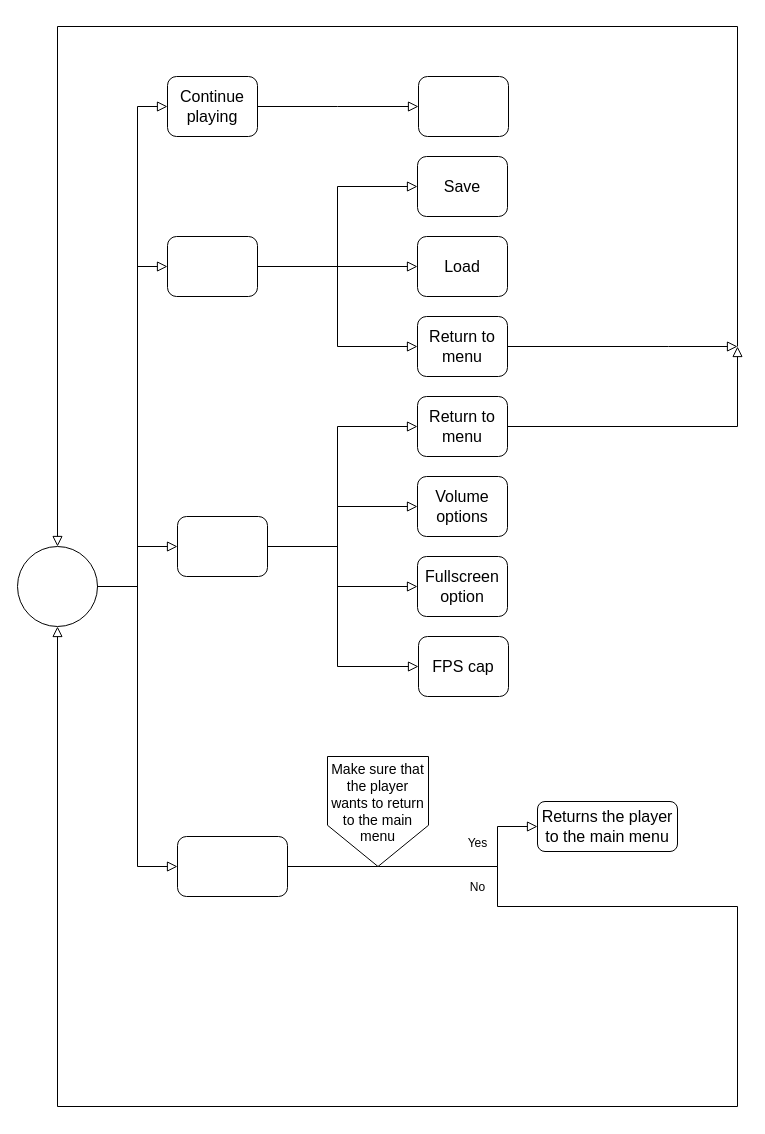
Image size: 765x1134. Some labels were removed from this diagram. The shapes that lost their labels are listed below. From the top down, each one's centre as x and y in pixels, then its label:
At (463,106): "Resume gameplay".
At (212,266): "Save/Load".
At (222,546): "Options".
At (57,586): "Pause Menu".
At (232,866): "Return to the main menu".
